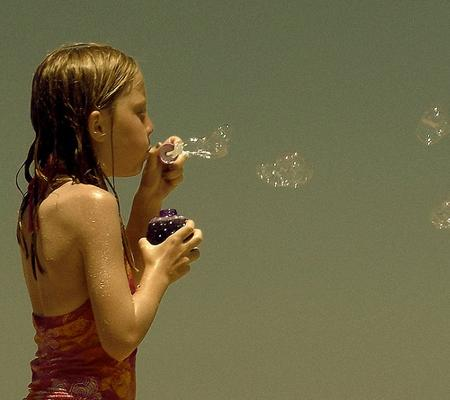person: (19, 39, 203, 400)
